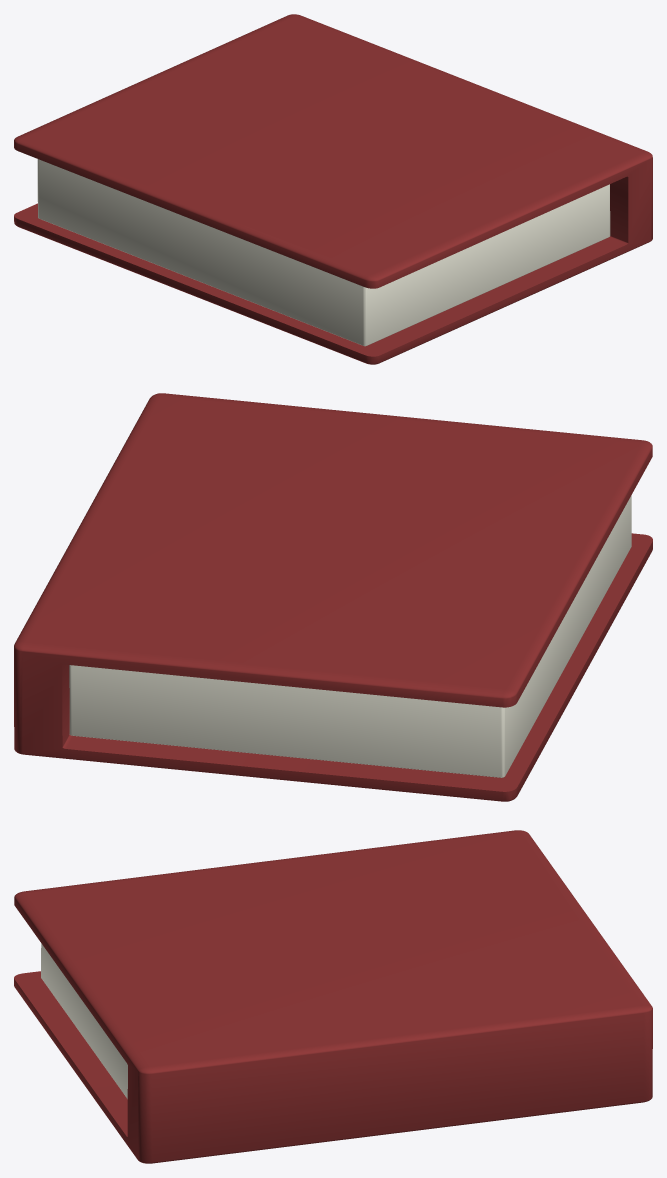
File: libro.gltf
3 views of the same model, one above another, from view 1: azimuth 30°, elevation 25°; view 2: azimuth 150°, elevation 25°; view 3: azimuth 270°, elevation 25° (orthographic). The views are drawn at different scales.
Parts seen in each view (by area): view 1: Boolean, Cube; view 2: Boolean, Cube; view 3: Boolean, Cube.
Boxes of the visible parts, box(x1,y1,x2,y2) form: Boolean: box(14, 14, 652, 364); Cube: box(37, 159, 610, 346); Boolean: box(14, 393, 652, 801); Cube: box(69, 495, 631, 777); Boolean: box(14, 830, 652, 1163); Cube: box(41, 943, 127, 1098).
Bounding box in the file's own units: 0.3251 × 0.0603 × 0.3596.
